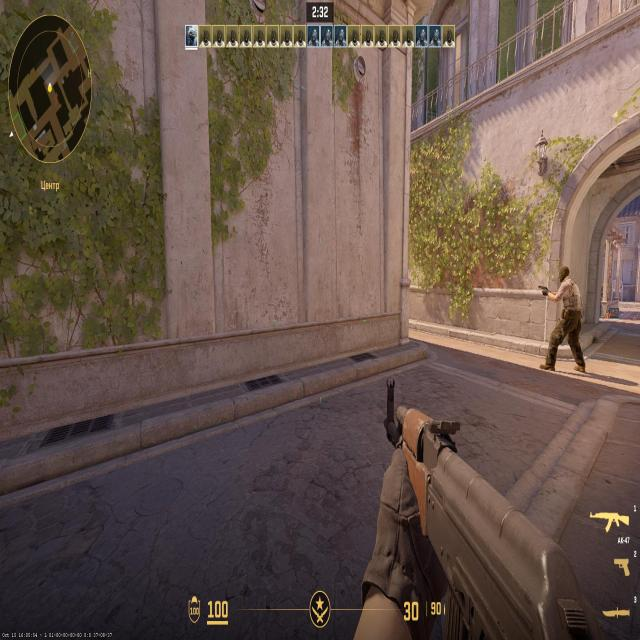T: (555, 268, 583, 359)
T_heat: (563, 272, 570, 282)
